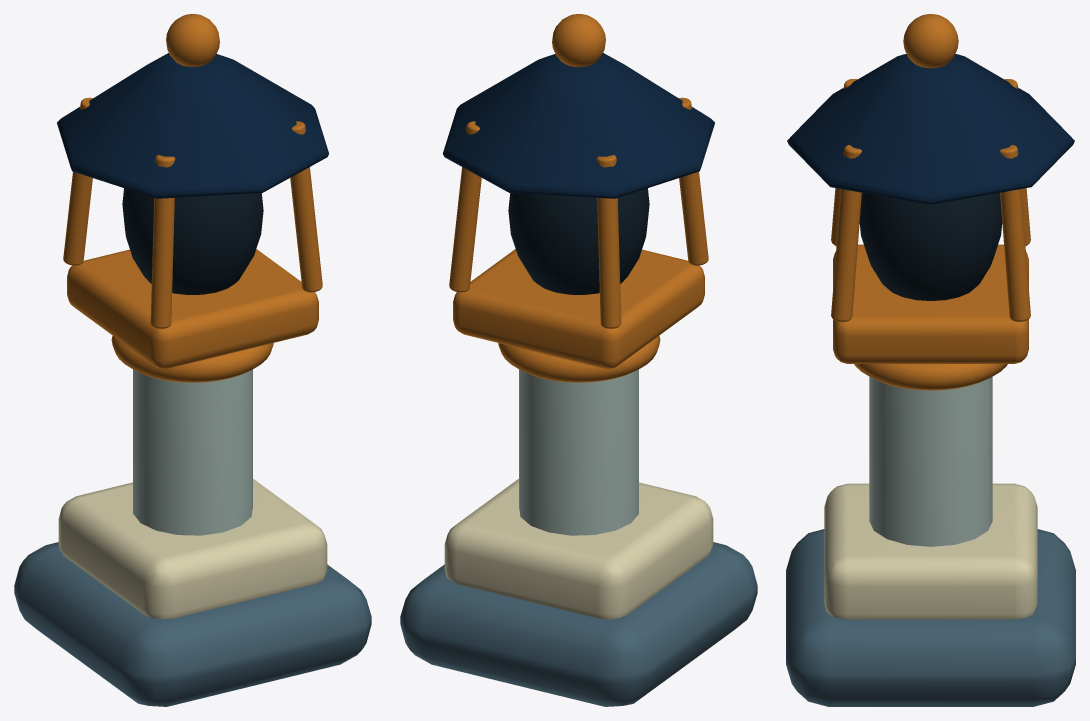
The model's file is star_lantern_unlit.glb.
3 renders of one model, left to right at view 1: azimuth 30°, elevation 25°; view 2: azimuth 150°, elevation 25°; view 3: azimuth 270°, elevation 25°, orthographic. The views are drawn at different scales.
Parts seen in each view (by area): view 1: star_lantern_foot.001, star_lantern_hat.001, star_lantern_base.001, star_lantern_pillar.001, star_lantern_lower.001, star_lantern_glowing_core.001, star_lantern_collar.001, star_lantern_cage.004, star_lantern_cage.006, star_lantern_finial.001, star_lantern_cage.005; view 2: star_lantern_foot.001, star_lantern_hat.001, star_lantern_base.001, star_lantern_pillar.001, star_lantern_lower.001, star_lantern_glowing_core.001, star_lantern_collar.001, star_lantern_cage.005, star_lantern_cage.007, star_lantern_finial.001, star_lantern_cage.004; view 3: star_lantern_foot.001, star_lantern_hat.001, star_lantern_base.001, star_lantern_pillar.001, star_lantern_lower.001, star_lantern_glowing_core.001, star_lantern_cage.006, star_lantern_cage.007, star_lantern_collar.001, star_lantern_finial.001.
Boxes of the visible parts, left/top/right/bottom form: star_lantern_foot.001: left=14, top=542, right=371, bottom=706; star_lantern_hat.001: left=57, top=53, right=328, bottom=198; star_lantern_base.001: left=58, top=479, right=327, bottom=619; star_lantern_pillar.001: left=133, top=369, right=252, bottom=535; star_lantern_lower.001: left=67, top=249, right=318, bottom=368; star_lantern_glowing_core.001: left=122, top=188, right=263, bottom=294; star_lantern_collar.001: left=111, top=335, right=273, bottom=382; star_lantern_cage.004: left=150, top=155, right=175, bottom=328; star_lantern_cage.006: left=290, top=121, right=322, bottom=292; star_lantern_finial.001: left=166, top=14, right=219, bottom=67; star_lantern_cage.005: left=63, top=97, right=92, bottom=265; star_lantern_foot.001: left=400, top=542, right=757, bottom=706; star_lantern_hat.001: left=443, top=53, right=714, bottom=198; star_lantern_base.001: left=444, top=479, right=713, bottom=619; star_lantern_pillar.001: left=519, top=369, right=638, bottom=535; star_lantern_lower.001: left=453, top=249, right=704, bottom=368; star_lantern_glowing_core.001: left=508, top=188, right=649, bottom=294; star_lantern_collar.001: left=498, top=335, right=660, bottom=382; star_lantern_cage.005: left=596, top=155, right=621, bottom=328; star_lantern_cage.007: left=449, top=121, right=481, bottom=292; star_lantern_finial.001: left=552, top=14, right=605, bottom=67; star_lantern_cage.004: left=679, top=97, right=708, bottom=265; star_lantern_foot.001: left=786, top=529, right=1075, bottom=706; star_lantern_hat.001: left=787, top=54, right=1074, bottom=204; star_lantern_base.001: left=824, top=483, right=1037, bottom=619; star_lantern_pillar.001: left=869, top=377, right=992, bottom=546; star_lantern_lower.001: left=833, top=244, right=1028, bottom=363; star_lantern_glowing_core.001: left=859, top=192, right=1002, bottom=300; star_lantern_cage.006: left=831, top=145, right=861, bottom=321; star_lantern_cage.007: left=1000, top=145, right=1030, bottom=321; star_lantern_collar.001: left=854, top=364, right=1007, bottom=390; star_lantern_finial.001: left=903, top=14, right=958, bottom=68.
Size of the model in its own units: 0.68 by 1.67 by 0.68.
